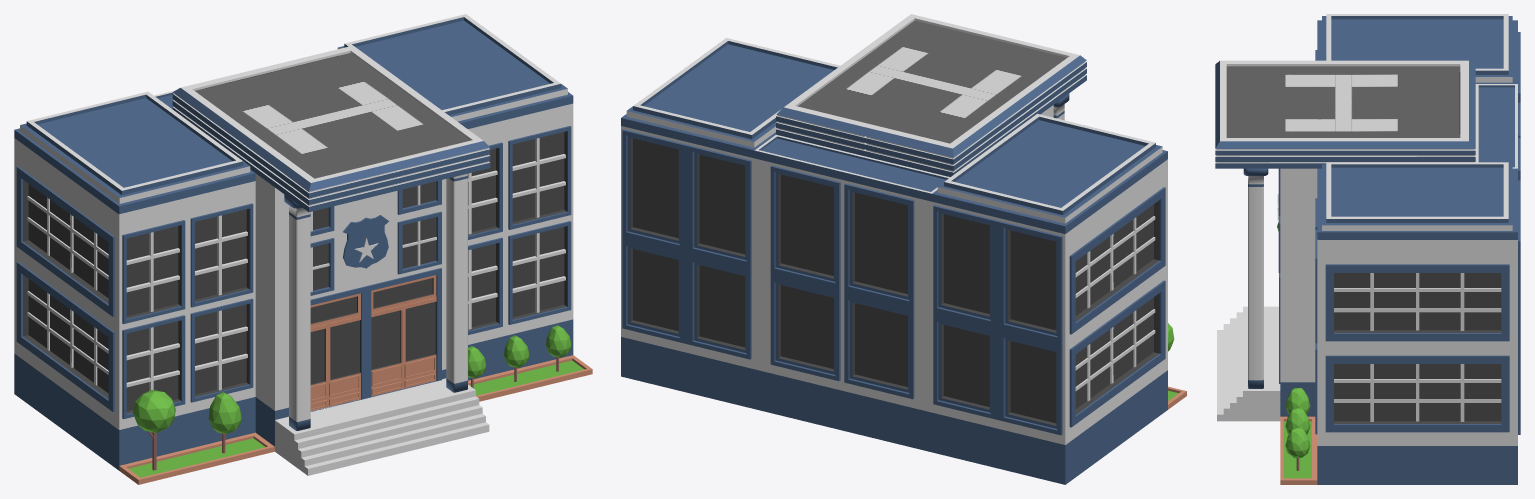
The model's file is government-building-police-station.fbx.
The picture shows the model from 3 angles, left to right: view 1: azimuth 30°, elevation 25°; view 2: azimuth 150°, elevation 25°; view 3: azimuth 270°, elevation 25°; orthographic projection. The views are drawn at different scales.
Parts seen in each view (by area): view 1: government-building-police-station; view 2: government-building-police-station; view 3: government-building-police-station.
Boxes of the visible parts, box(x1,y1,x2,y2) form: government-building-police-station: box(14, 14, 592, 484); government-building-police-station: box(621, 14, 1186, 484); government-building-police-station: box(1215, 14, 1520, 484).
Size of the model in its own units: 15.31 by 9.29 by 9.25.
